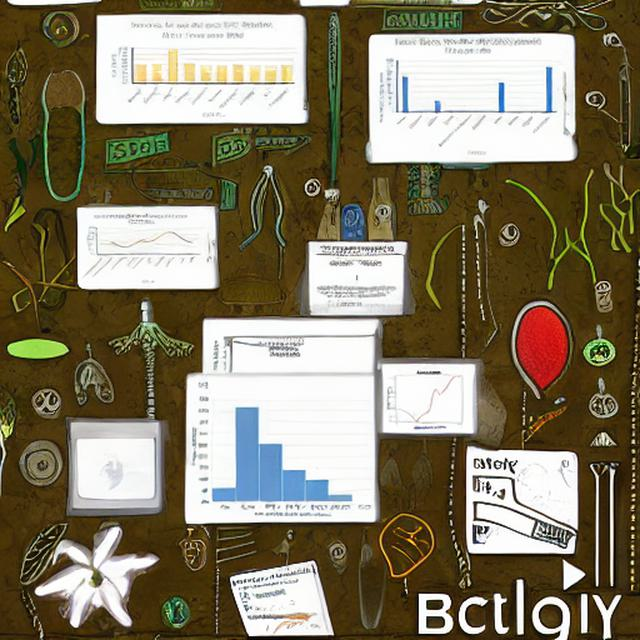Graph: (189, 396, 373, 520), (375, 37, 560, 157), (104, 16, 299, 121), (81, 212, 200, 284), (385, 366, 471, 431)
